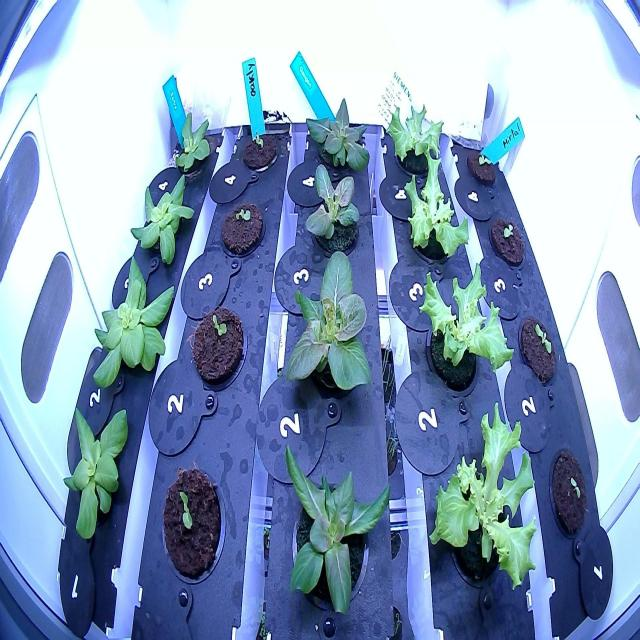germination: (154, 456, 228, 587), (188, 294, 248, 396), (544, 441, 593, 544), (512, 310, 561, 391), (217, 192, 267, 268), (486, 205, 528, 275), (238, 114, 280, 180), (461, 140, 504, 190)
young: (262, 430, 397, 634), (280, 236, 384, 418), (82, 241, 178, 401), (57, 396, 134, 546), (125, 158, 198, 279), (296, 152, 370, 266), (296, 90, 376, 187), (171, 102, 215, 186)
